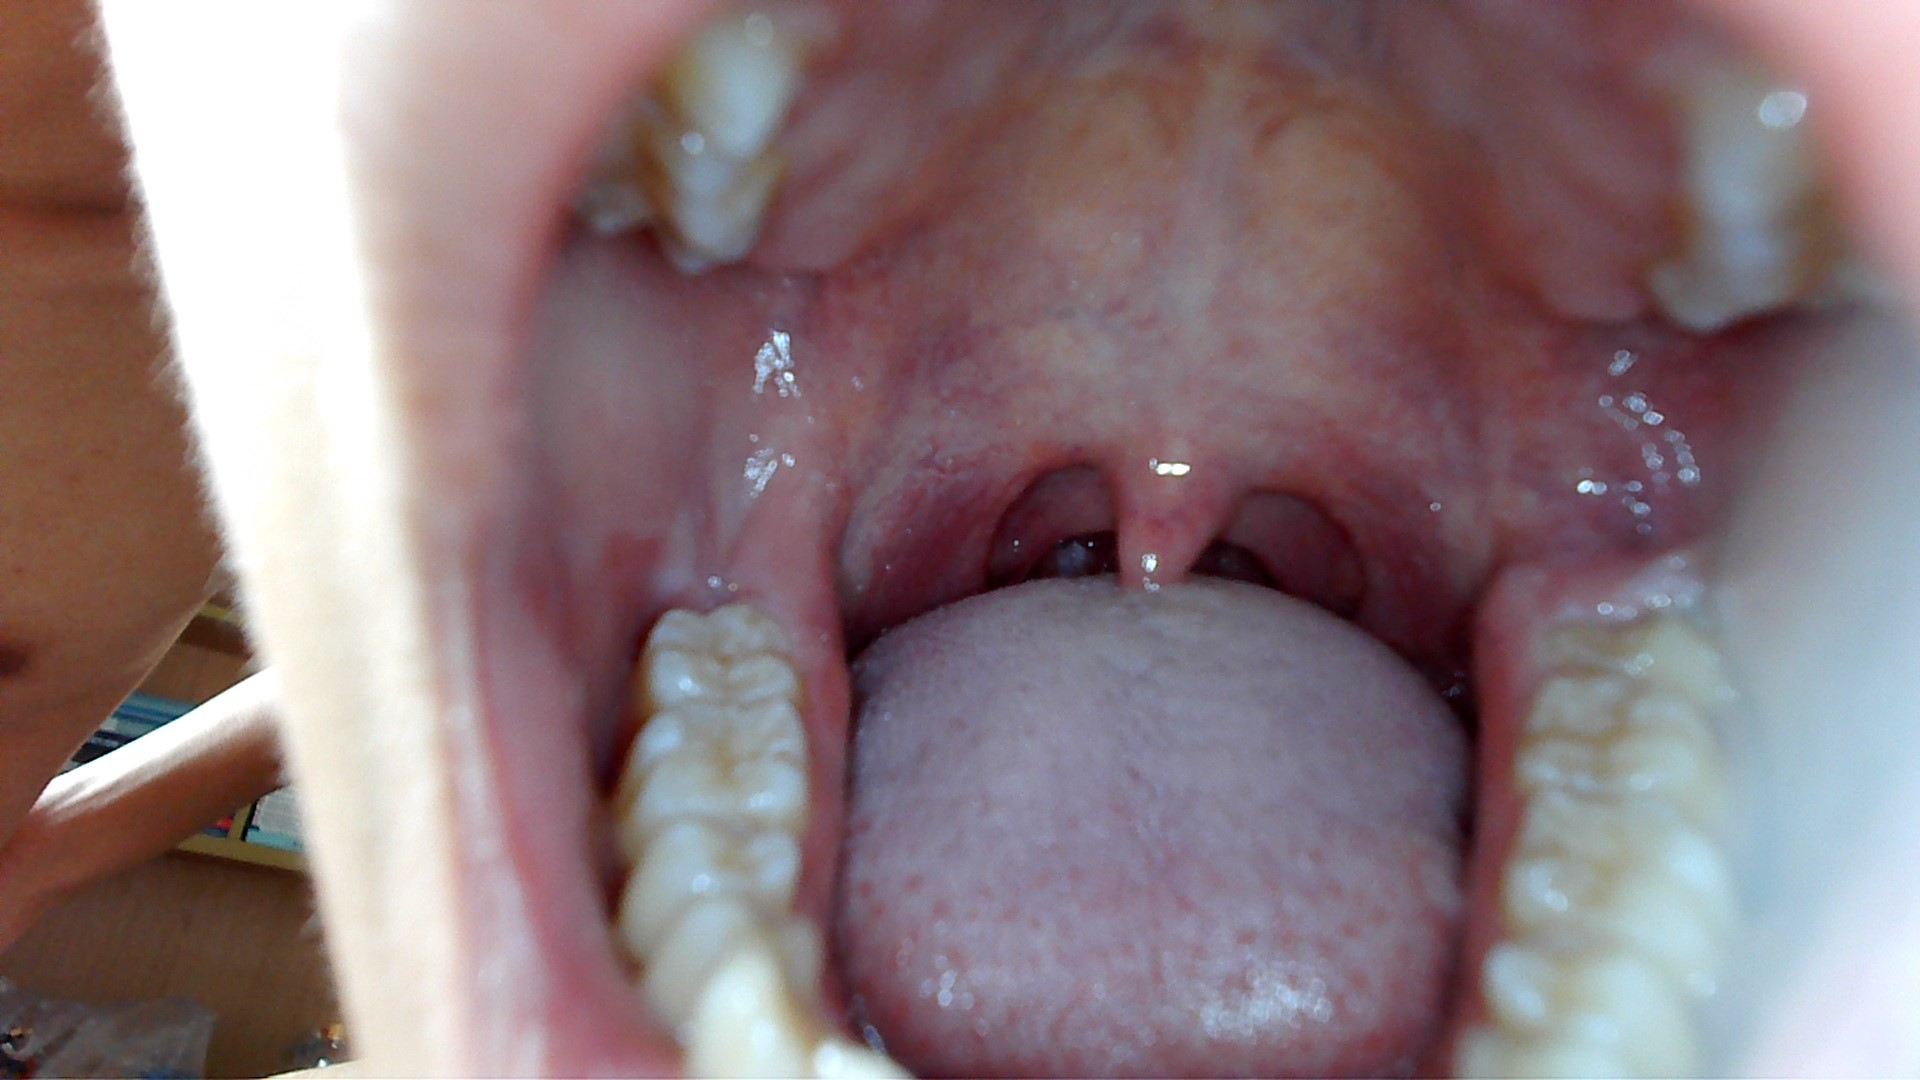throat: (1327, 460, 1429, 636), (938, 440, 1042, 592)
